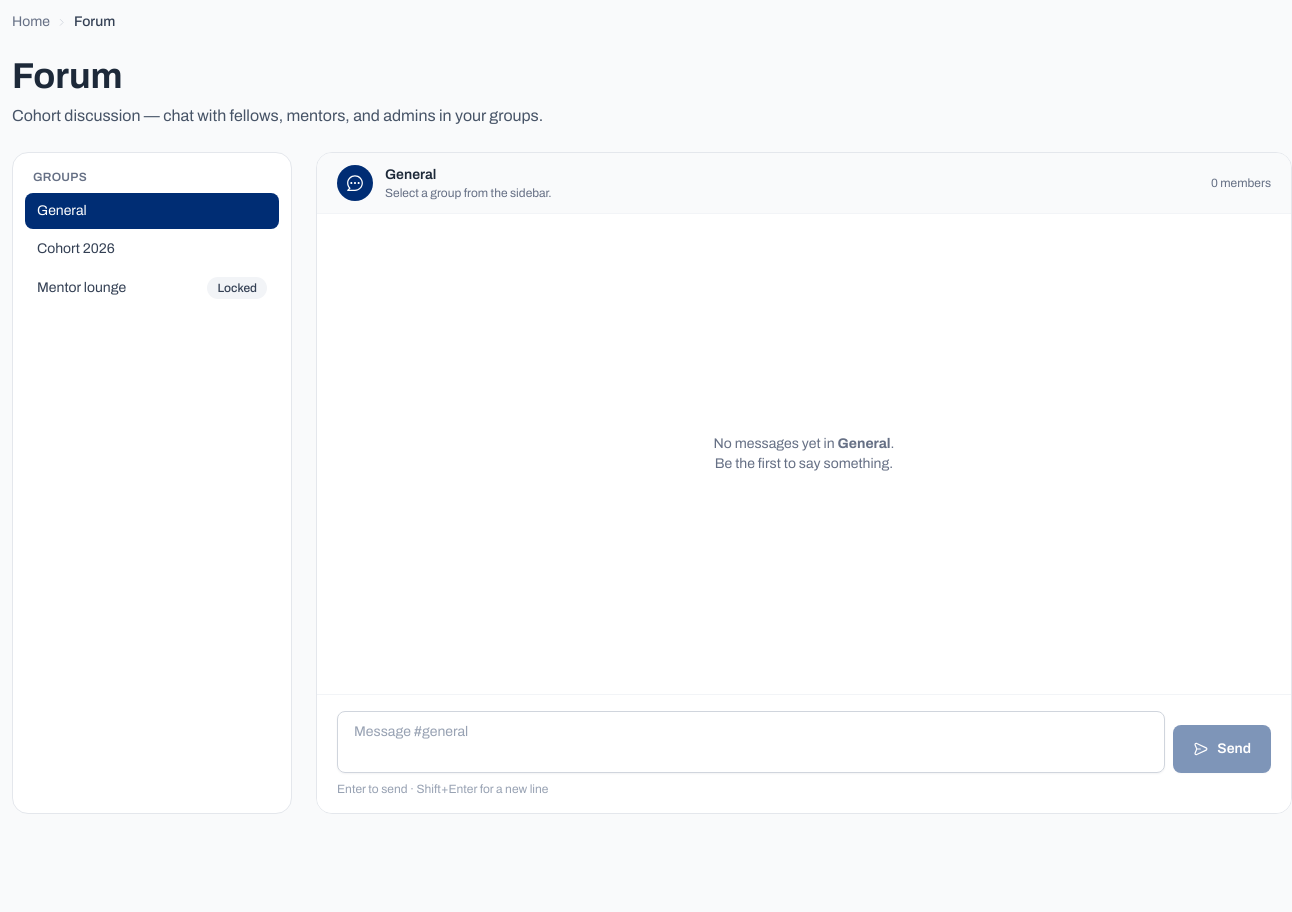
ForumChat › shows a 'join group' placeholder when a non-member group is active
expect the text box with placeholder "Message #general" is shown: met, box [337,711,1165,773]
Click the button "Mentor lounge Locked": (152, 288) [25,269,279,307]
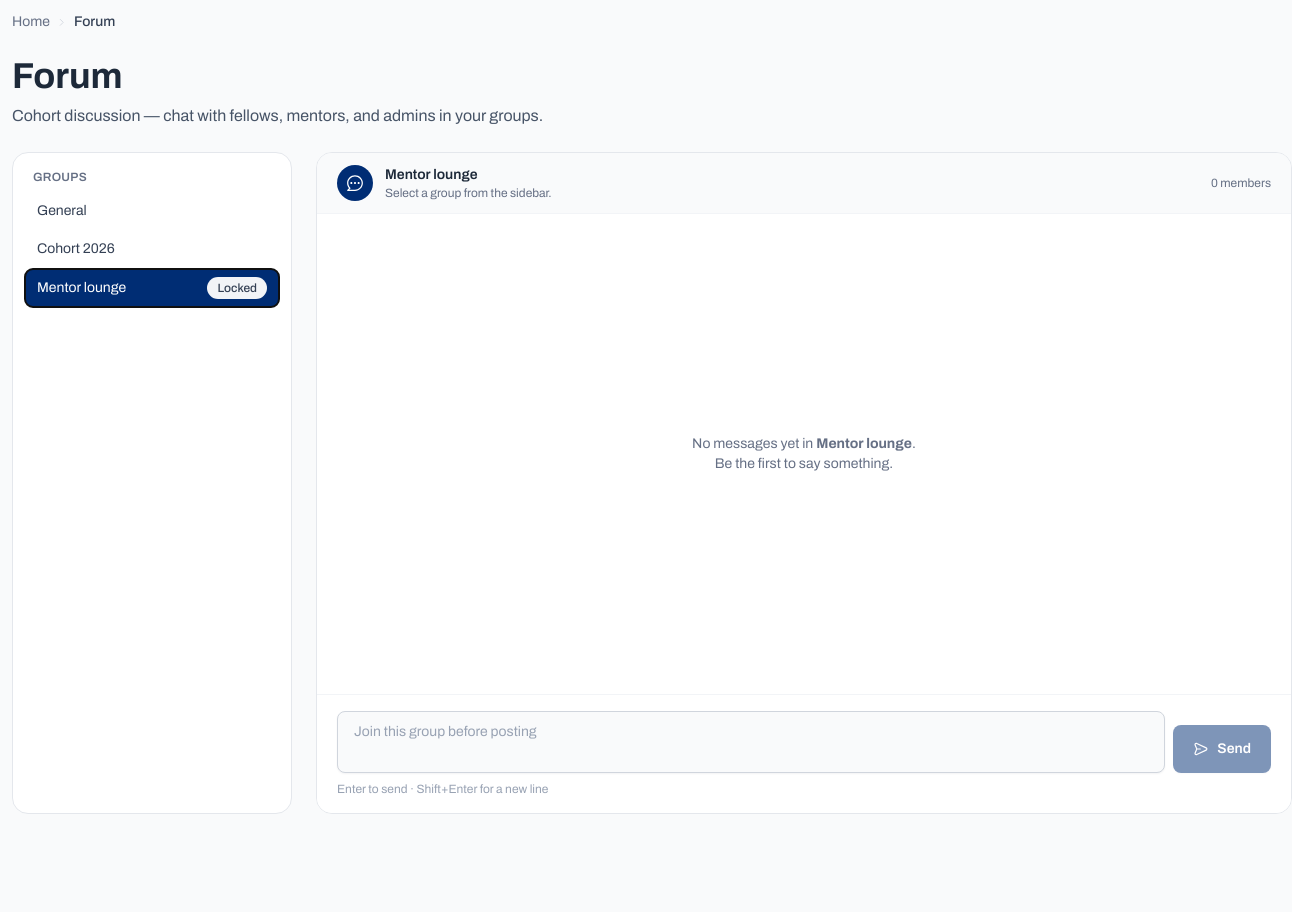
expect the text box with placeholder "Join this group before posting" is shown: met, box [337,711,1165,773]
